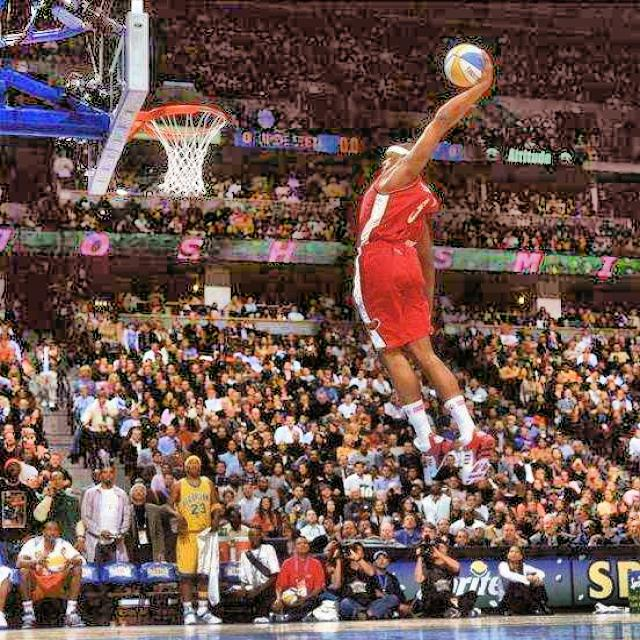board: (444, 44, 485, 87)
rim: (148, 106, 228, 199)
